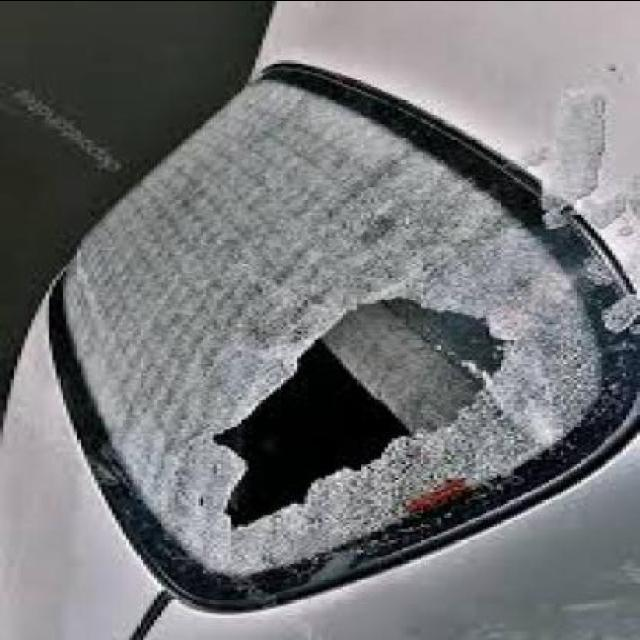Rear-windscreen-Damage: (48, 57, 634, 640)
